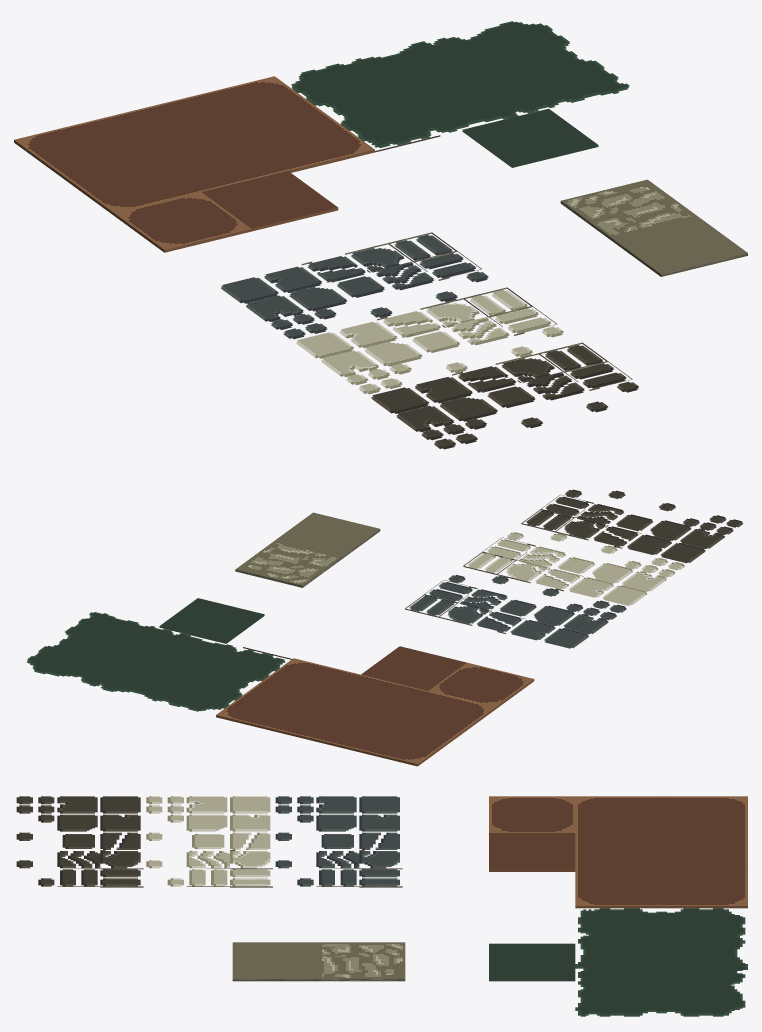
File: Grass and Stone Tile Set.gltf
The picture shows the model from 3 angles, top to bottom: view 1: azimuth 30°, elevation 25°; view 2: azimuth 150°, elevation 25°; view 3: azimuth 270°, elevation 25°; orthographic projection. The views are drawn at different scales.
Parts seen in each view (by area): view 1: cube (×32), Center (×2), Bottom Left (×2), Bottom (×2), Top (×2), Top Left (×2), Center Bordered, Bottom RIght, Top RIght, Bottom Right, Top Right; view 2: cube (×29), Center (×2), Top (×2), Top Left (×2), Bottom Left (×2), Bottom (×2), Top RIght, Center Bordered, Bottom RIght, Bottom Right, Top Right; view 3: cube (×35), Center (×2), Bottom (×2), Top (×2), Bottom Left (×2), Top Left (×2), Bottom RIght, Top RIght, Center Bordered, Bottom Right, Top Right.
Part boxes in pixels (left/top/right/bottom): cube (×32): left=221, top=179, right=747, bottom=449; Center (×2): left=201, top=108, right=598, bottom=231; Bottom Left (×2): left=64, top=93, right=458, bottom=215; Bottom (×2): left=151, top=72, right=545, bottom=191; Top (×2): left=101, top=37, right=498, bottom=155; Top Left (×2): left=14, top=58, right=411, bottom=178; Center Bordered: left=114, top=192, right=251, bottom=252; Bottom RIght: left=238, top=113, right=374, bottom=172; Top RIght: left=188, top=76, right=324, bottom=133; Bottom Right: left=499, top=53, right=629, bottom=107; Top Right: left=452, top=21, right=574, bottom=71; cube (×29): left=235, top=494, right=724, bottom=648; Center (×2): left=159, top=598, right=466, bottom=690; Top (×2): left=84, top=655, right=388, bottom=749; Top Left (×2): left=151, top=671, right=456, bottom=766; Bottom Left (×2): left=188, top=644, right=495, bottom=737; Bottom (×2): left=120, top=628, right=427, bottom=719; Top RIght: left=216, top=686, right=321, bottom=733; Center Bordered: left=428, top=662, right=534, bottom=709; Bottom RIght: left=255, top=658, right=360, bottom=702; Bottom Right: left=61, top=612, right=156, bottom=654; Top Right: left=27, top=640, right=119, bottom=682; cube (×35): left=16, top=796, right=405, bottom=981; Center (×2): left=489, top=833, right=575, bottom=981; Bottom (×2): left=575, top=833, right=661, bottom=979; Top (×2): left=661, top=833, right=747, bottom=979; Bottom Left (×2): left=575, top=796, right=661, bottom=943; Top Left (×2): left=661, top=796, right=747, bottom=943; Bottom RIght: left=575, top=869, right=661, bottom=908; Top RIght: left=661, top=869, right=747, bottom=908; Center Bordered: left=489, top=796, right=575, bottom=832; Bottom Right: left=575, top=980, right=661, bottom=1016; Top Right: left=661, top=980, right=745, bottom=1016.
Bounding box in the file's own units: 12 × 0.0938 × 17.
Materials: 1 (1 with a texture image).
